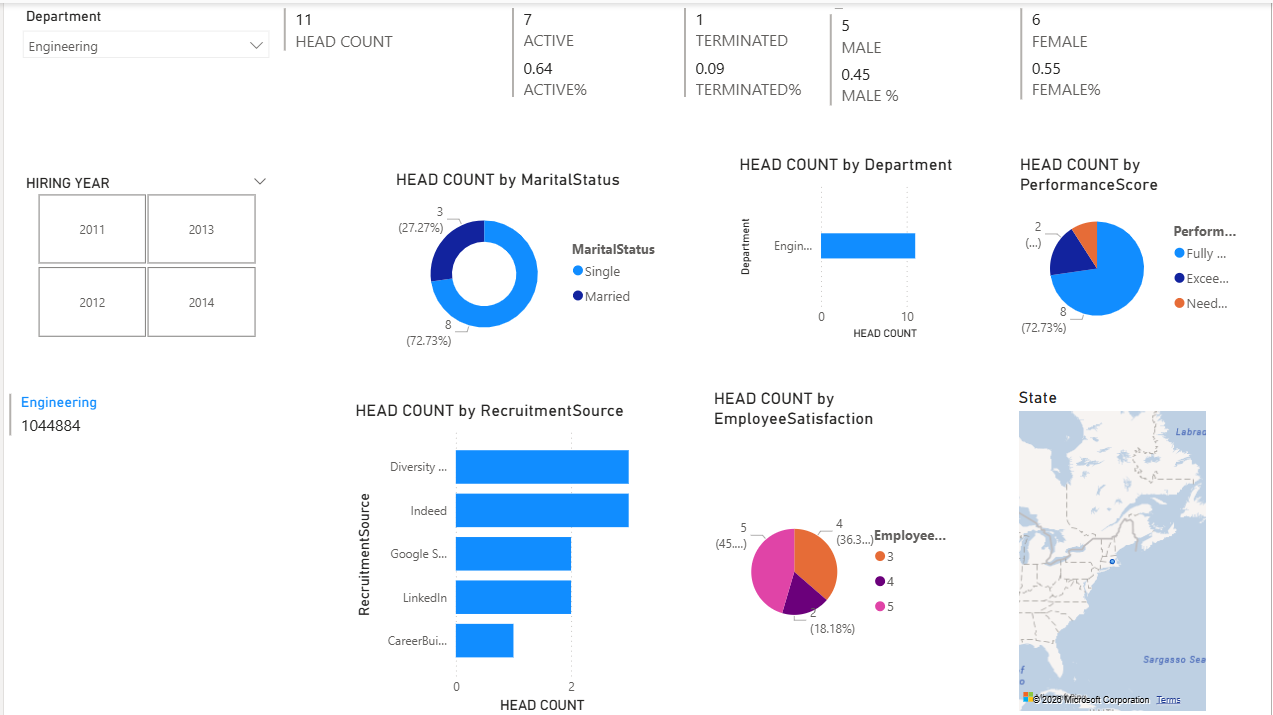

This screenshot's page, from the dashboard's own definition file:
{"tool":"powerbi","page":{"name":"Page 1","canvas":[1280,720],"ordinal":0},"visuals":[{"type":"slicer","fields":{"Values":["HR Data.Department"]},"box":[9.4,0,268.3,98.3],"z":0},{"type":"slicer","fields":{"Values":["HR Data.HIRING YEAR"]},"box":[9.4,168.2,268.3,175.7],"z":1},{"type":"multiRowCard","fields":{"Values":["HR Data.HEAD COUNT"]},"box":[277.8,0,268.3,132.3],"z":2},{"type":"multiRowCard","fields":{"Values":["HR Data.ACTIVE","HR Data.ACTIVE%"]},"box":[506.9,0,203.9,99.1],"z":3},{"type":"multiRowCard","fields":{"Values":["HR Data.TERMINATED","HR Data.TERMINATED%"]},"box":[680.8,0,170.2,99.1],"z":4},{"type":"multiRowCard","fields":{"Values":["HR Data.MALE","HR Data.MALE %"]},"box":[827.7,5.7,228.7,107.7],"z":5},{"type":"multiRowCard","fields":{"Values":["HR Data.FEMALE","HR Data.FEMALE%"]},"box":[1020.5,0,232.4,132.3],"z":6},{"type":"multiRowCard","fields":{"Values":["Sum(HR Data.Salary)","HR Data.Department"]},"box":[0,389.3,215.4,313.7],"z":7},{"type":"donutChart","fields":{"Category":["HR Data.MaritalStatus"],"Y":["HR Data.HEAD COUNT"]},"box":[391.3,168.6,278.4,190.9],"z":8},{"type":"barChart","fields":{"Category":["HR Data.Department"],"Y":["HR Data.HEAD COUNT"]},"box":[737,153.1,228.7,190.9],"z":9},{"type":"pieChart","fields":{"Category":["HR Data.PerformanceScore"],"Y":["HR Data.HEAD COUNT"]},"box":[1020,153,232,191],"z":10},{"type":"clusteredBarChart","fields":{"Category":["HR Data.RecruitmentSource"],"Y":["HR Data.HEAD COUNT"]},"box":[349.9,400.8,289.5,319.7],"z":11},{"type":"pieChart","fields":{"Y":["HR Data.HEAD COUNT"],"Series":["HR Data.EmployeeSatisfaction"]},"box":[711,389.7,254.5,330.8],"z":12},{"type":"map","fields":{"Category":["HR Data.State"]},"box":[1019.6,388.1,198.8,332.4],"z":13}]}

Visuals, with their boxes in screenshot pixels (x1, y1, x2, y2), scaled from the page's 1280x720 canvas onto the 1273x715 screenshot:
slicer - HR Data.Department: {"left": 9, "top": 0, "right": 276, "bottom": 98}
slicer - HR Data.HIRING YEAR: {"left": 9, "top": 167, "right": 276, "bottom": 342}
multiRowCard - HR Data.HEAD COUNT: {"left": 276, "top": 0, "right": 543, "bottom": 131}
multiRowCard - HR Data.ACTIVE x HR Data.ACTIVE%: {"left": 504, "top": 0, "right": 707, "bottom": 98}
multiRowCard - HR Data.TERMINATED x HR Data.TERMINATED%: {"left": 677, "top": 0, "right": 846, "bottom": 98}
multiRowCard - HR Data.MALE x HR Data.MALE %: {"left": 823, "top": 6, "right": 1051, "bottom": 113}
multiRowCard - HR Data.FEMALE x HR Data.FEMALE%: {"left": 1015, "top": 0, "right": 1246, "bottom": 131}
multiRowCard - Sum(HR Data.Salary) x HR Data.Department: {"left": 0, "top": 387, "right": 214, "bottom": 698}
donutChart - HR Data.MaritalStatus x HR Data.HEAD COUNT: {"left": 389, "top": 167, "right": 666, "bottom": 357}
barChart - HR Data.Department x HR Data.HEAD COUNT: {"left": 733, "top": 152, "right": 960, "bottom": 342}
pieChart - HR Data.PerformanceScore x HR Data.HEAD COUNT: {"left": 1014, "top": 152, "right": 1245, "bottom": 342}
clusteredBarChart - HR Data.RecruitmentSource x HR Data.HEAD COUNT: {"left": 348, "top": 398, "right": 636, "bottom": 714}
pieChart - HR Data.HEAD COUNT x HR Data.EmployeeSatisfaction: {"left": 707, "top": 387, "right": 960, "bottom": 714}
map - HR Data.State: {"left": 1014, "top": 385, "right": 1212, "bottom": 714}
